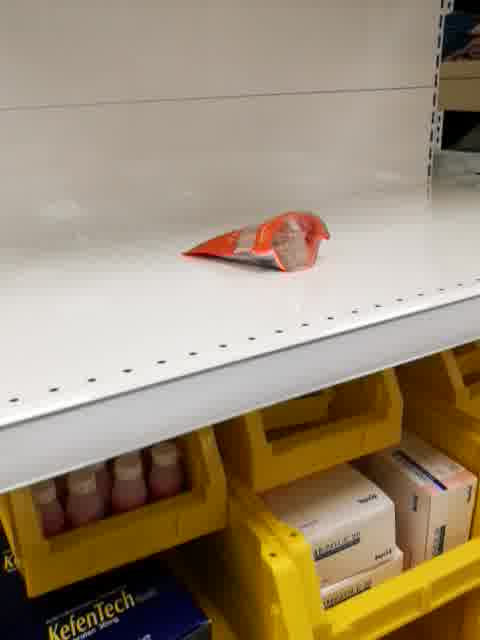whitechia: (181, 206, 332, 274)
